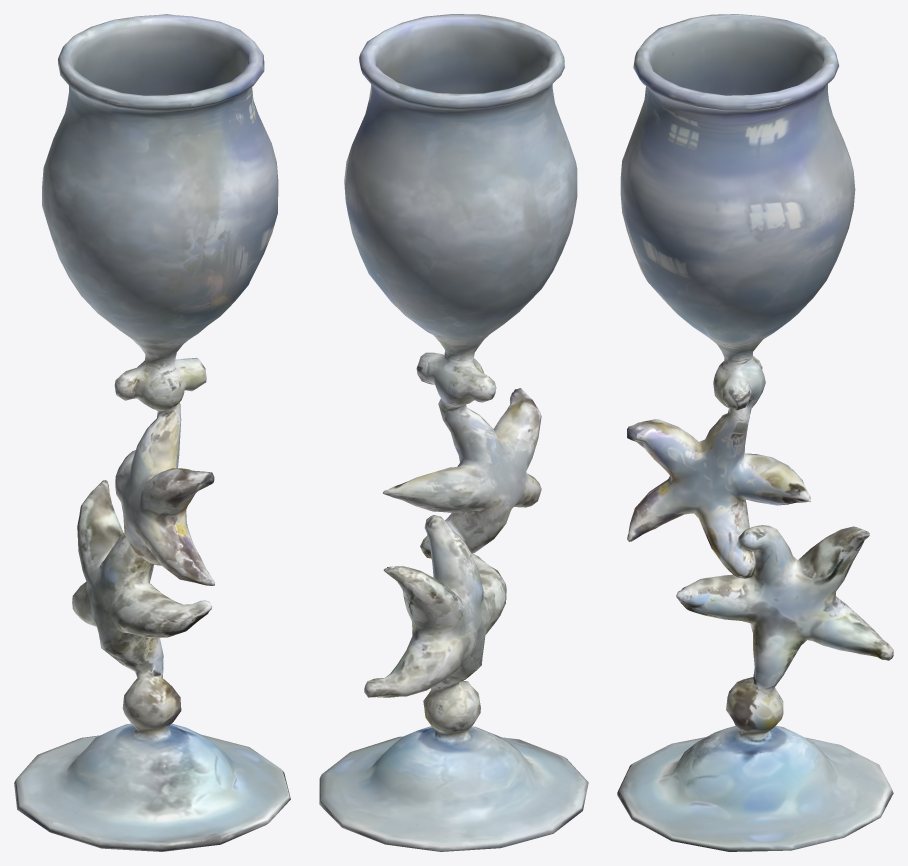
The model's file is 海星玻璃杯3d模型.glb.
3 views of the same model, side by side, from view 1: azimuth 30°, elevation 25°; view 2: azimuth 150°, elevation 25°; view 3: azimuth 270°, elevation 25° (orthographic).
Visible parts, largest first — view 1: tripo_node_0f0ff798-bbae-4aed-9560-3510598f325b; view 2: tripo_node_0f0ff798-bbae-4aed-9560-3510598f325b; view 3: tripo_node_0f0ff798-bbae-4aed-9560-3510598f325b.
Part boxes in pixels (<box>): tripo_node_0f0ff798-bbae-4aed-9560-3510598f325b: <box>14,14,290,851</box>; tripo_node_0f0ff798-bbae-4aed-9560-3510598f325b: <box>319,14,588,851</box>; tripo_node_0f0ff798-bbae-4aed-9560-3510598f325b: <box>617,14,893,851</box>.
Size of the model in its own units: 0.334 by 0.998 by 0.3379.
Materials: 1 (1 with a texture image).
